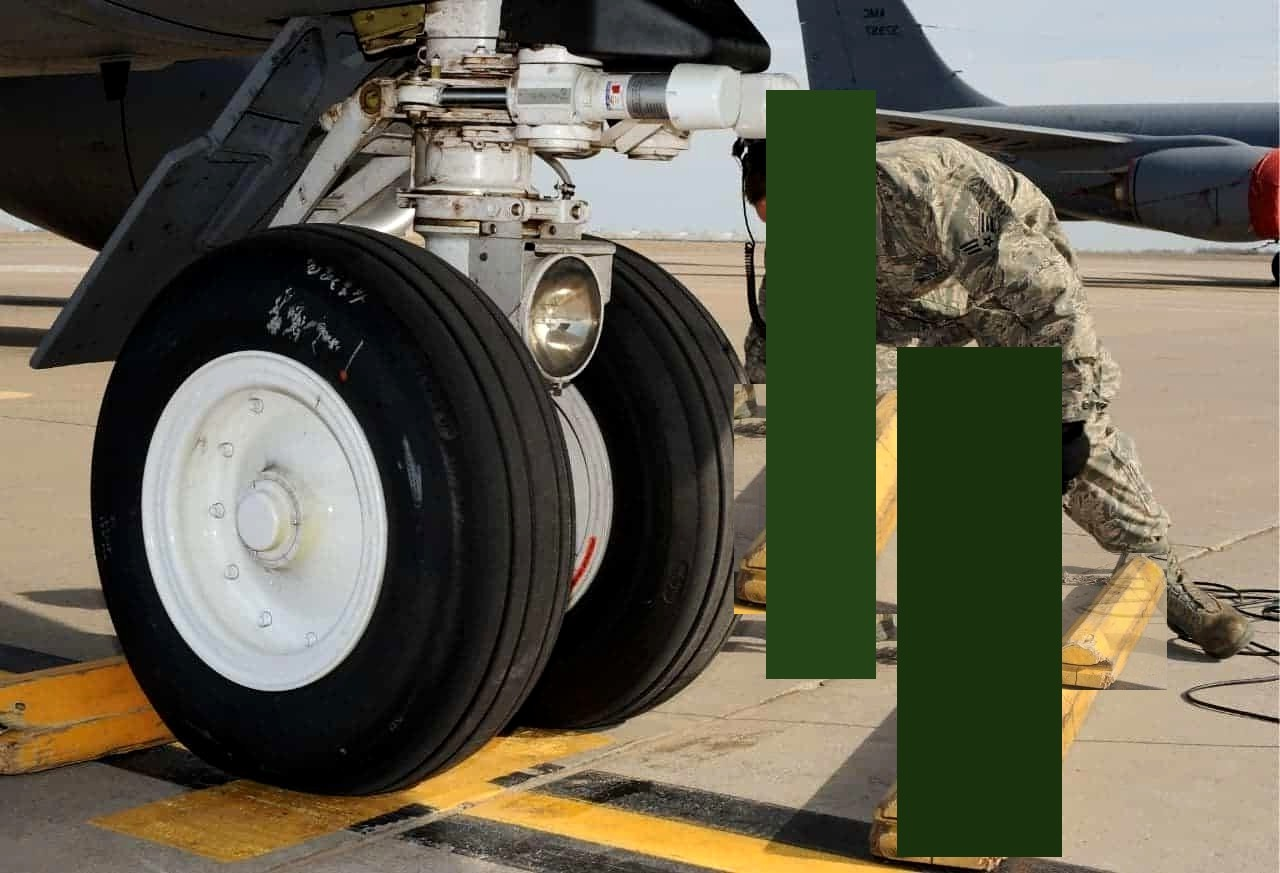chock: (867, 601, 1112, 873), (734, 384, 942, 614), (1043, 553, 1167, 690)
wheel: (99, 223, 577, 788), (495, 233, 768, 730)
